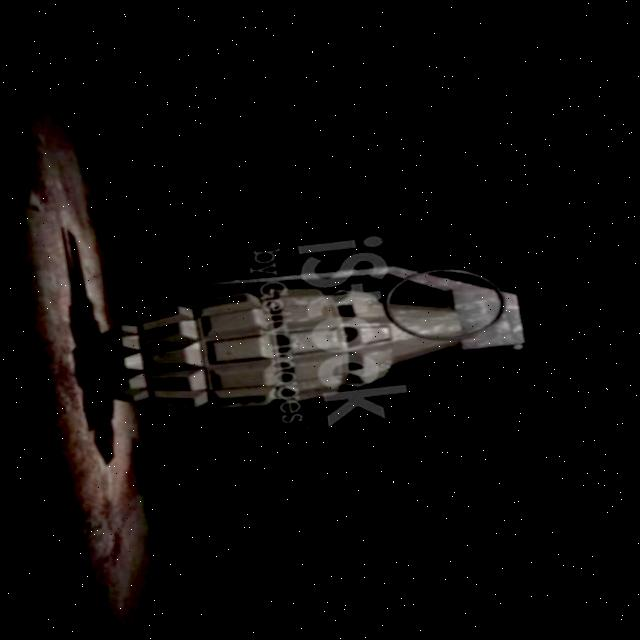grenade: (71, 218, 544, 449)
